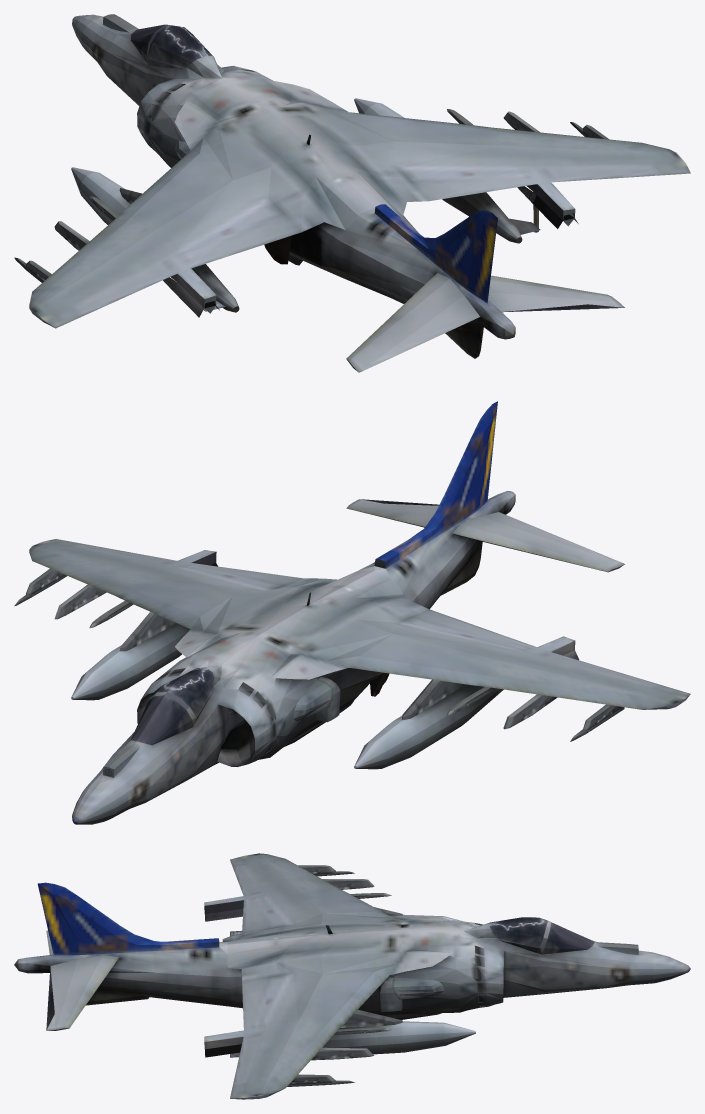
The model's file is avb8.DAE.
3 renders of one model, top to bottom at view 1: azimuth 30°, elevation 25°; view 2: azimuth 150°, elevation 25°; view 3: azimuth 270°, elevation 25°, orthographic. The views are drawn at different scales.
Visible parts, largest first — view 1: hull, glass; view 2: hull, glass; view 3: hull, glass.
Part boxes in pixels (bbox=[...]): hull: bbox=[14, 14, 690, 372]; glass: bbox=[130, 24, 213, 69]; hull: bbox=[14, 401, 690, 824]; glass: bbox=[131, 667, 214, 745]; hull: bbox=[14, 853, 690, 1099]; glass: bbox=[489, 917, 594, 954].
Bounding box in the file's own units: 12.01 × 3.03 × 14.16.
Materials: 2 (2 with a texture image).
